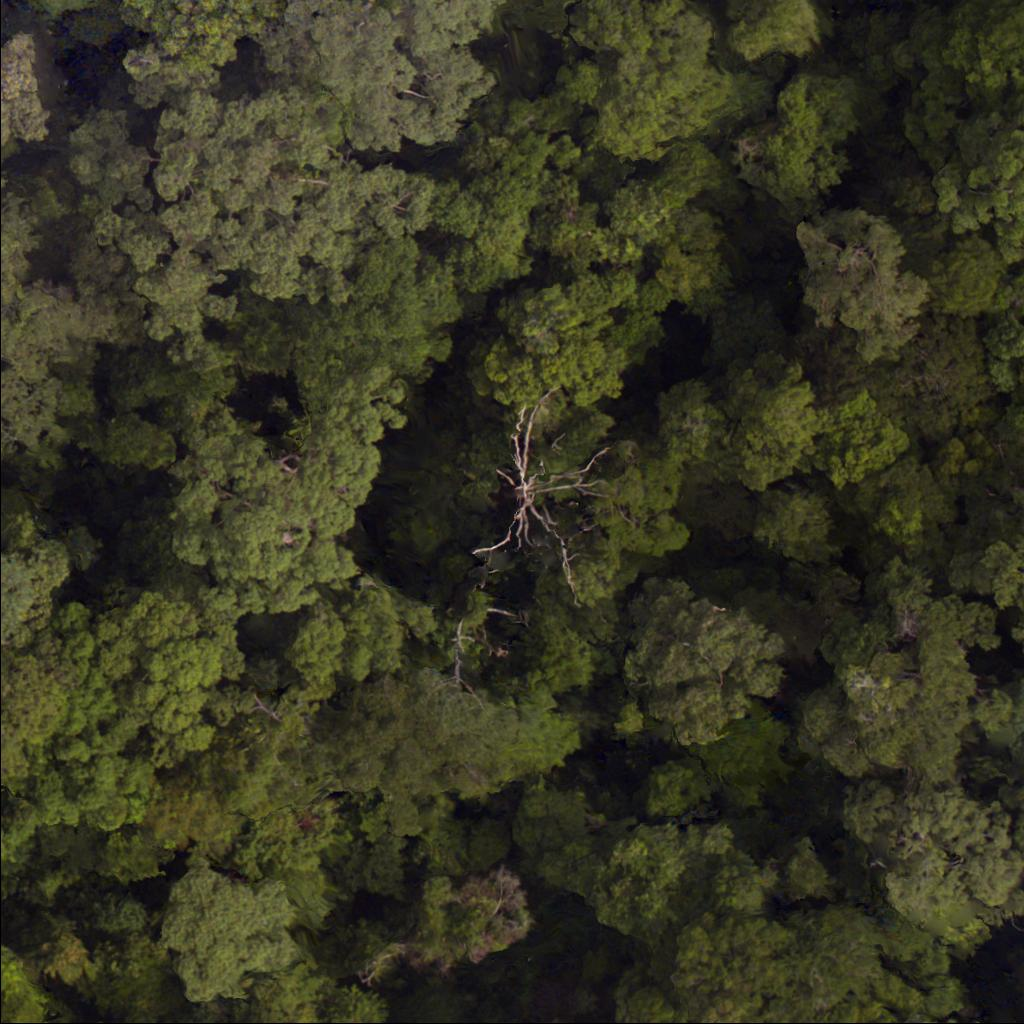crown: (59, 48, 436, 373), (147, 371, 407, 622), (309, 593, 556, 823), (424, 378, 654, 614), (801, 562, 1008, 791), (232, 241, 480, 422), (264, 0, 500, 148), (561, 0, 773, 159), (0, 204, 104, 465), (81, 594, 251, 753), (623, 584, 787, 744), (838, 786, 1023, 921), (433, 133, 585, 293), (350, 867, 537, 997), (157, 858, 302, 1010), (472, 272, 642, 396), (793, 203, 924, 354), (733, 74, 869, 206), (920, 109, 1023, 259), (586, 826, 716, 944), (708, 365, 832, 488), (115, 0, 279, 90), (863, 319, 992, 432), (657, 922, 791, 1023), (0, 638, 69, 791), (689, 712, 794, 807), (957, 527, 1023, 678), (934, 0, 1023, 110), (791, 916, 887, 1013), (821, 392, 917, 483), (136, 765, 235, 851), (0, 20, 57, 157), (747, 494, 846, 565), (926, 238, 1011, 316), (526, 205, 610, 280), (785, 977, 918, 1023), (719, 0, 829, 54), (967, 422, 1023, 527), (510, 784, 584, 854), (0, 524, 36, 659), (712, 858, 782, 922), (602, 179, 668, 244), (644, 762, 712, 824), (0, 940, 46, 1023), (29, 0, 106, 36), (780, 853, 835, 901), (318, 989, 389, 1023), (0, 153, 18, 199), (919, 1015, 1009, 1023), (552, 1008, 568, 1023)
